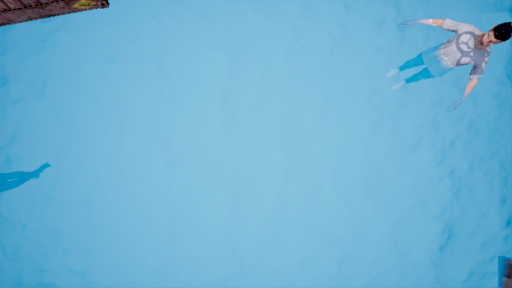person: (392, 13, 512, 120)
